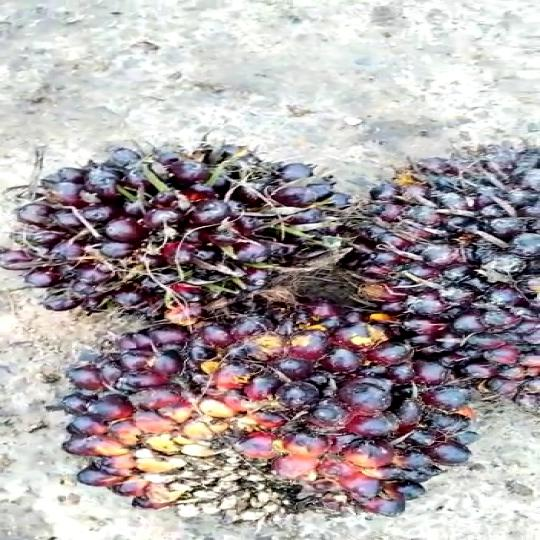kurang masak: (54, 291, 498, 537), (0, 126, 348, 326), (330, 127, 540, 409)
